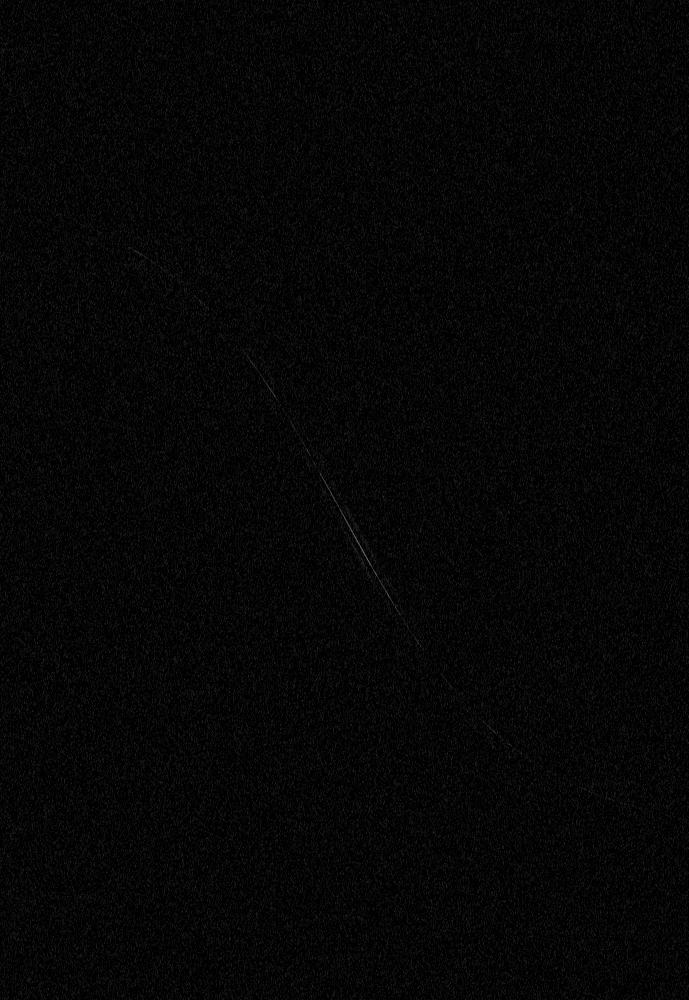signal: (0, 0, 688, 999)
